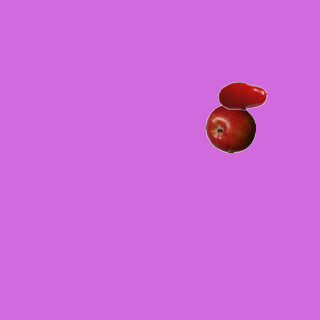Apple Braeburn: (205, 103, 255, 153)
Tomato 2: (217, 70, 267, 120)
